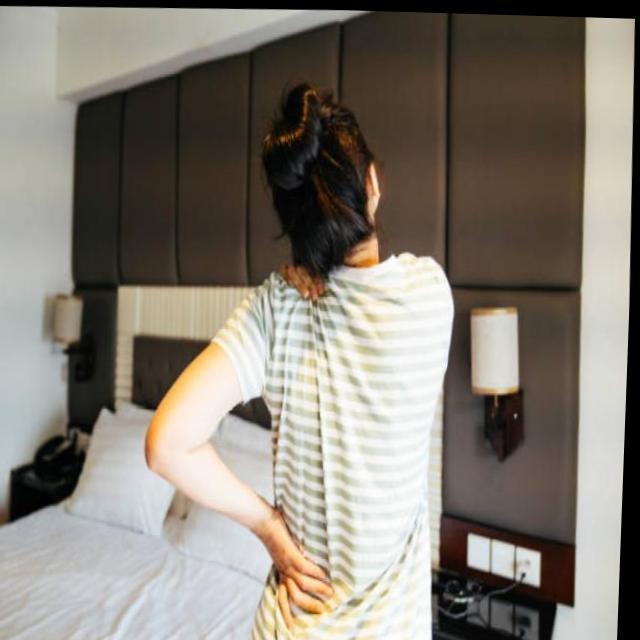no helmet: (260, 72, 389, 269)
